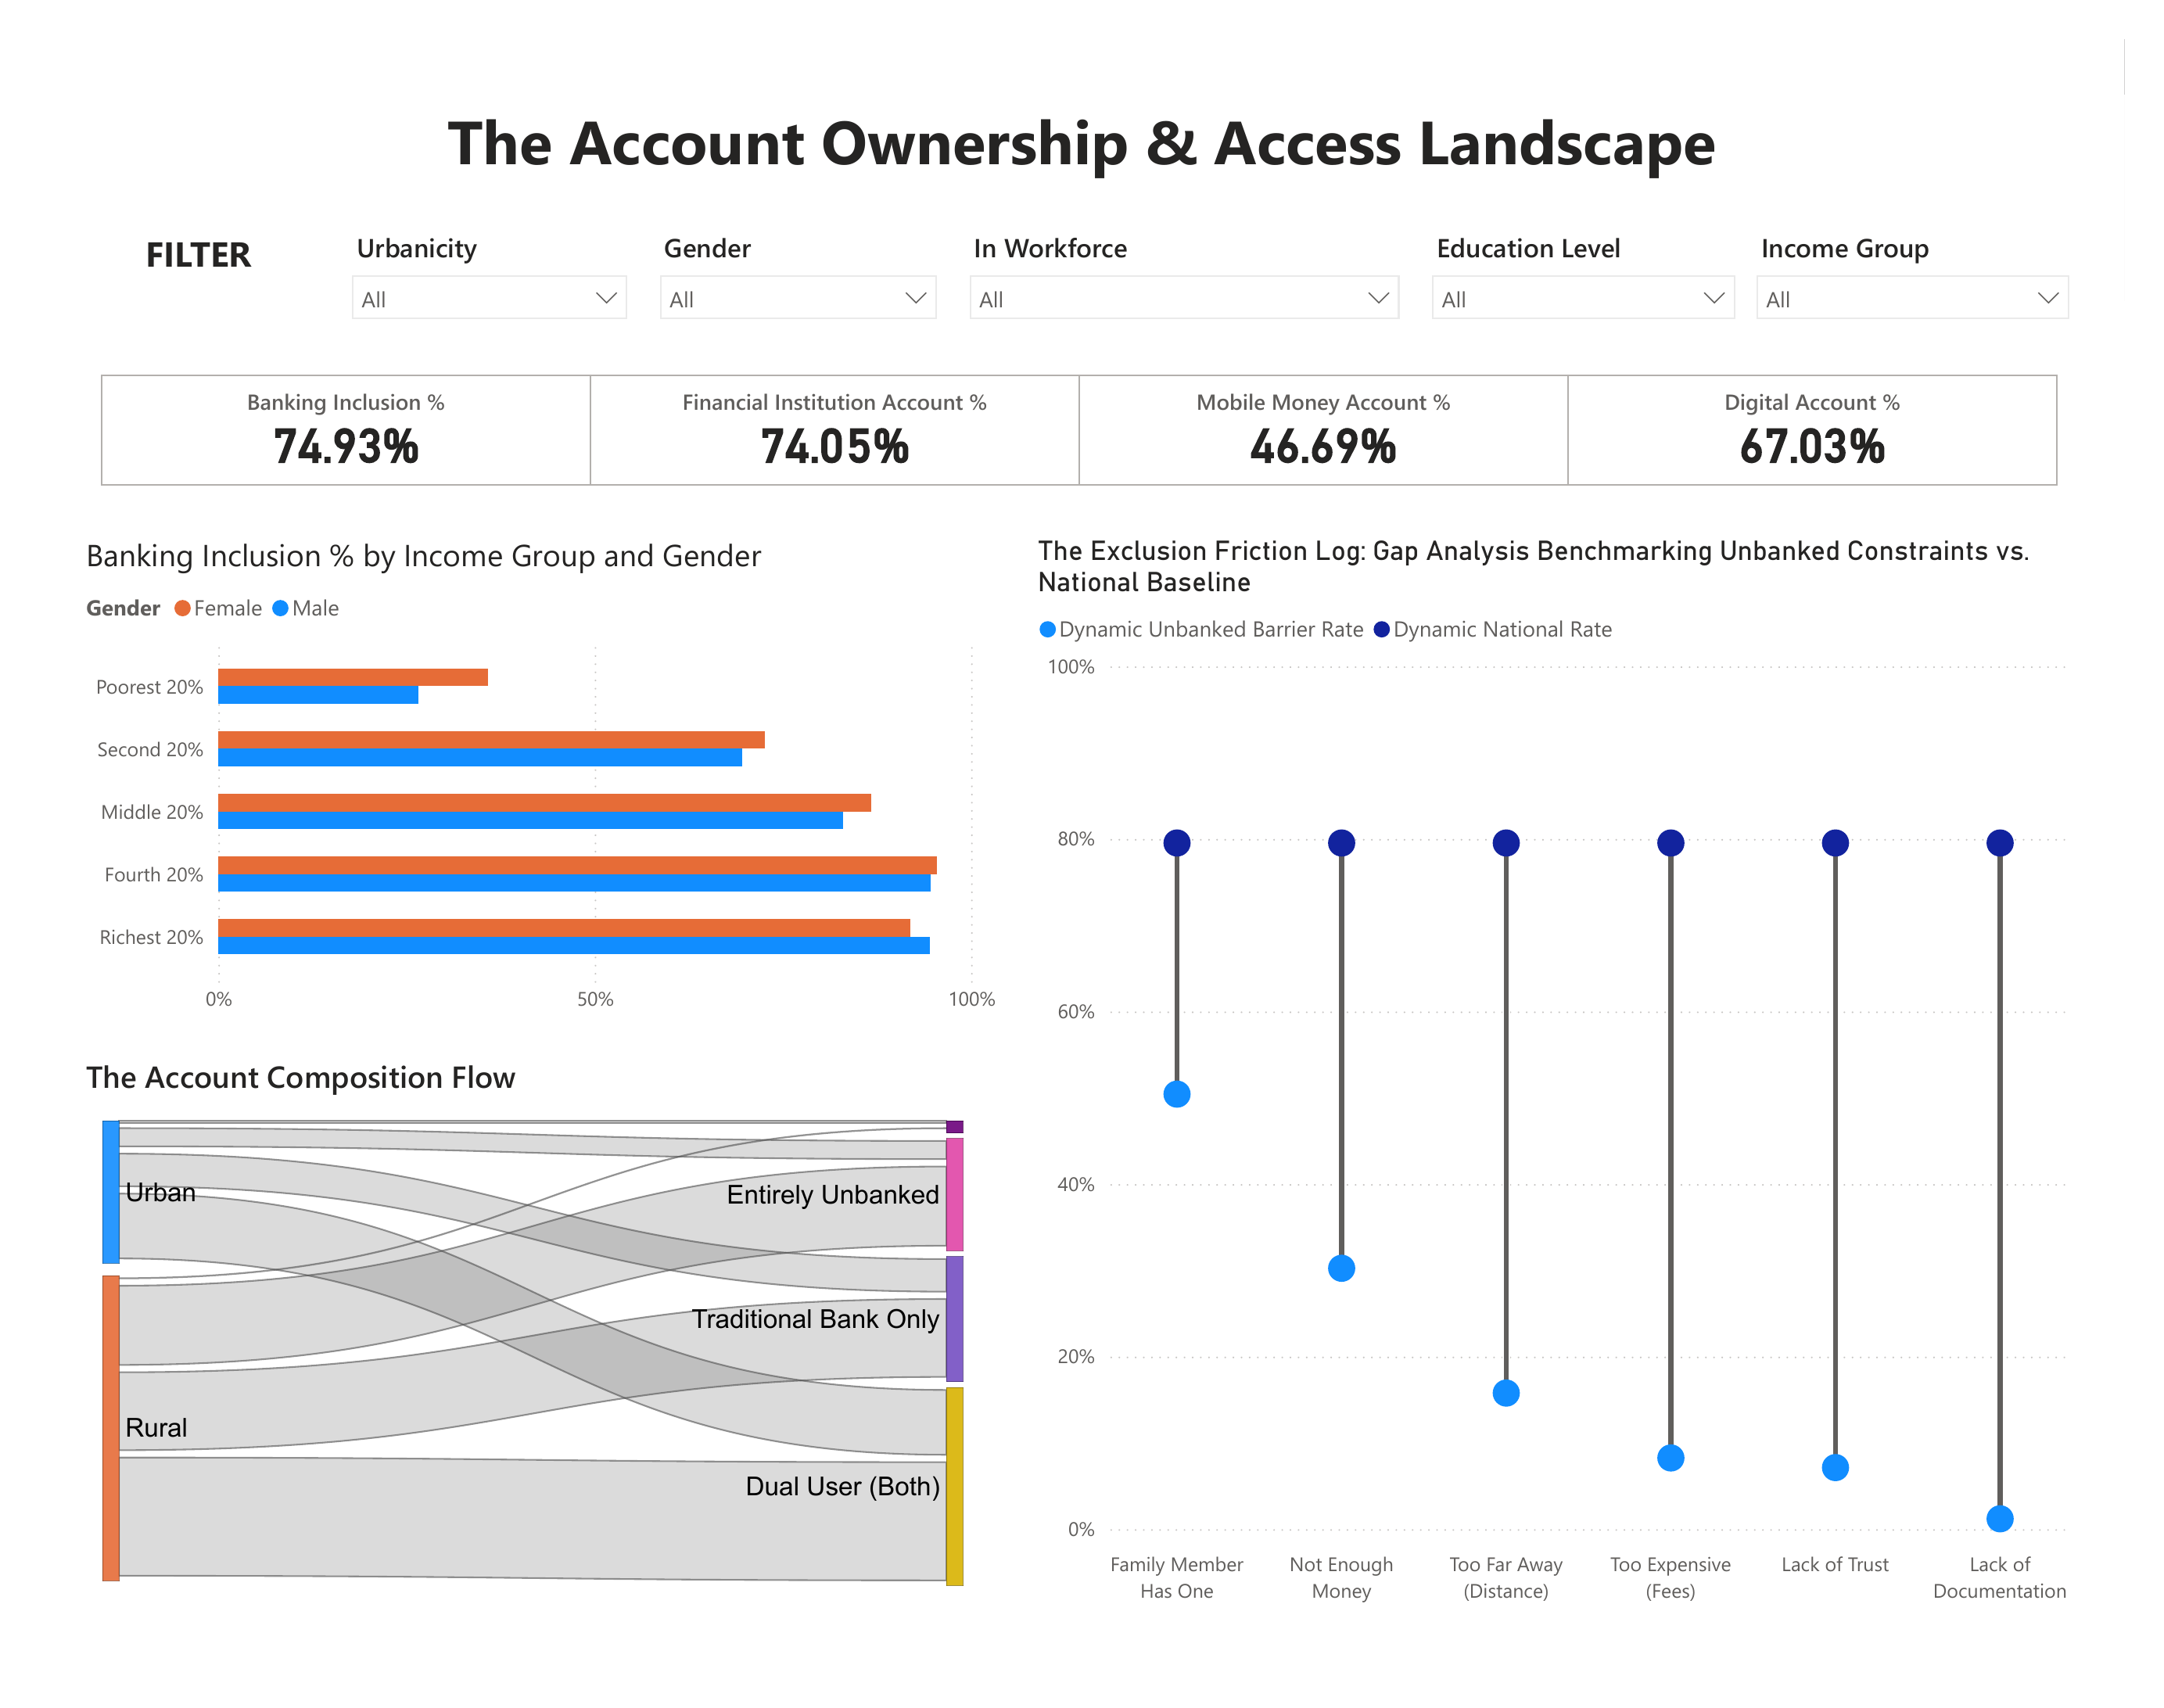

The dashboard page shown, as its layout file describes it:
{"tool":"powerbi","page":{"name":"The Account Ownership & Access Landscape","canvas":[1280,1000],"ordinal":2},"visuals":[{"type":"group","id":"g1","title":"Group 1","box":[24,112,1232,64],"z":0,"group":"g2"},{"type":"slicer","fields":{"Values":["Findex_Microdata_2025_updateViet Nam.Urbanicity.1"]},"box":[181.9,112,189.5,64],"z":0,"group":"g1"},{"type":"cardVisual","fields":{"Data":["Findex_Microdata_2025_updateViet Nam.Banking Inclusion %","Findex_Microdata_2025_updateViet Nam.Financial Institution Account %","Findex_Microdata_2025_updateViet Nam.Mobile Money Account %","Findex_Microdata_2025_updateViet Nam.Digital Account %"]},"box":[24,192,1232,96],"z":0},{"type":"group","id":"g2","title":"Group 2","box":[24,112,1232,64],"z":1000},{"type":"slicer","fields":{"Values":["Findex_Microdata_2025_updateViet Nam.Education Level"]},"box":[845.3,112,205.3,64],"z":1000,"group":"g2"},{"type":"slicer","fields":{"Values":["Findex_Microdata_2025_updateViet Nam.Income Group"]},"box":[1043.6,112,212.4,64],"z":1000,"group":"g1"},{"type":"slicer","fields":{"Values":["Findex_Microdata_2025_updateViet Nam.Gender"]},"box":[371.5,112,189.5,64],"z":2000,"group":"g1"},{"type":"slicer","fields":{"Values":["Findex_Microdata_2025_updateViet Nam.In Workforce"]},"box":[561,112,284.3,64],"z":2000,"group":"g2"},{"type":"clusteredBarChart","fields":{"Y":["Findex_Microdata_2025_updateViet Nam.Banking Inclusion %"],"Category":["Findex_Microdata_2025_updateViet Nam.Location Type","Findex_Microdata_2025_updateViet Nam.Income Group"],"Series":["Findex_Microdata_2025_updateViet Nam.Gender"]},"box":[24,304,568,304],"z":2000},{"type":"textbox","box":[24,112,147.8,64],"z":3000,"group":"g1"},{"type":"sankey02300D1BE6F5427989F3DE31CCA9E0F32020","title":"The Account Composition Flow","fields":{"Source":["Findex_Microdata_2025_updateViet Nam.Location Type"],"Destination":["Findex_Microdata_2025_updateViet Nam.Account Ecosystem Type"],"Weight":["Findex_Microdata_2025_updateViet Nam.Total Weighted Population"]},"box":[24,624,568,344],"z":3000},{"type":"textbox","box":[224,32,832,64],"z":4000},{"type":"lineChart","title":"The Exclusion Friction Log: Gap Analysis Benchmarking Unbanked Constraints vs. National Baseline","fields":{"Category":["Pillar4_Friction_Spine.Barrier Reason"],"Y":["Pillar4_Friction_Spine.Dynamic Unbanked Rate","Pillar4_Friction_Spine.Dynamic National Rate"]},"box":[608,304,648,664],"z":4001}]}

Visuals, with their boxes on the page's 1280x1000 design canvas (x1, y1, x2, y2). These are canvas units, not pixel positions in the 2164x1708 screenshot, which may show the page scaled, cropped or inside an application window:
"Group 1" group: region(24, 112, 1256, 176)
slicer - Findex_Microdata_2025_updateViet Nam.Urbanicity.1: region(182, 112, 371, 176)
cardVisual - Findex_Microdata_2025_updateViet Nam.Banking Inclusion % x Findex_Microdata_2025_updateViet Nam.Financial Institution Account %: region(24, 192, 1256, 288)
"Group 2" group: region(24, 112, 1256, 176)
slicer - Findex_Microdata_2025_updateViet Nam.Education Level: region(845, 112, 1051, 176)
slicer - Findex_Microdata_2025_updateViet Nam.Income Group: region(1044, 112, 1256, 176)
slicer - Findex_Microdata_2025_updateViet Nam.Gender: region(372, 112, 561, 176)
slicer - Findex_Microdata_2025_updateViet Nam.In Workforce: region(561, 112, 845, 176)
clusteredBarChart - Findex_Microdata_2025_updateViet Nam.Banking Inclusion % x Findex_Microdata_2025_updateViet Nam.Location Type: region(24, 304, 592, 608)
textbox: region(24, 112, 172, 176)
"The Account Composition Flow" sankey02300D1BE6F5427989F3DE31CCA9E0F32020: region(24, 624, 592, 968)
textbox: region(224, 32, 1056, 96)
"The Exclusion Friction Log: Gap Analysis Benchmarking Unbanked Constraints vs. National Baseline" lineChart: region(608, 304, 1256, 968)
